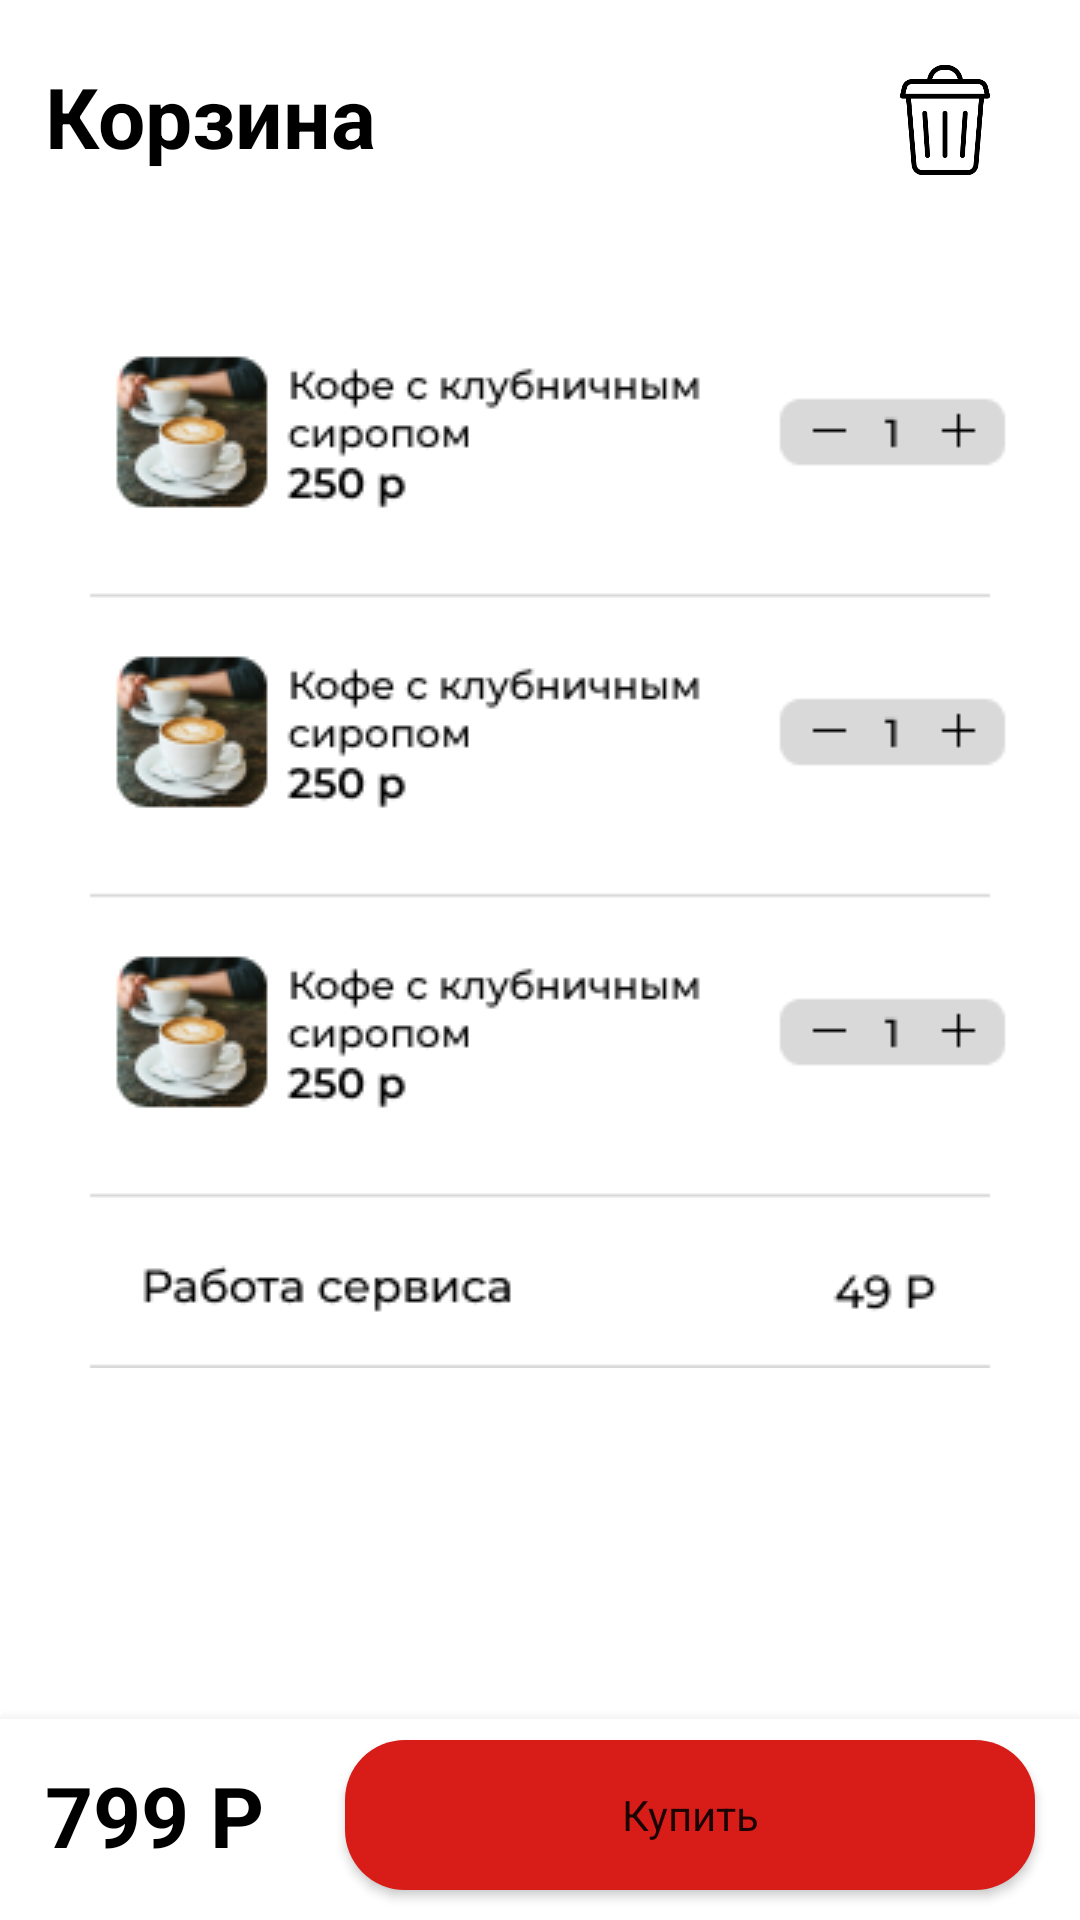

Icon click points for this 1080 × 1920 phone screenshot, format point (x, y):
shop bin: point (945, 120)
